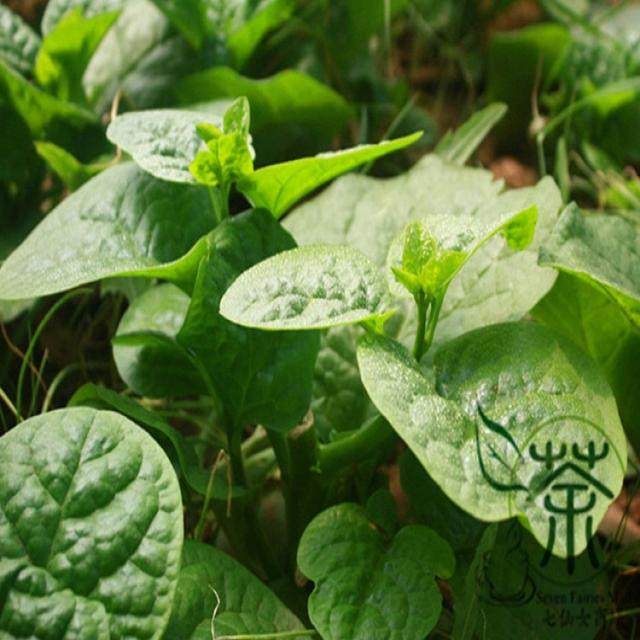Medicinal-Basale: (16, 48, 633, 390), (0, 399, 454, 640)
